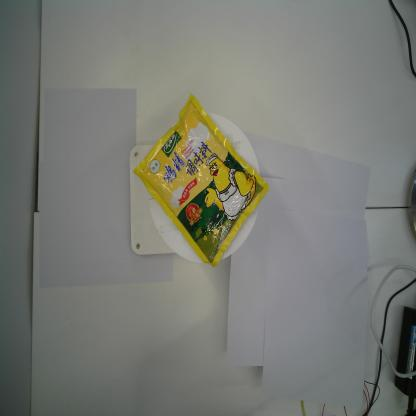Seasoner: (130, 94, 273, 270)
